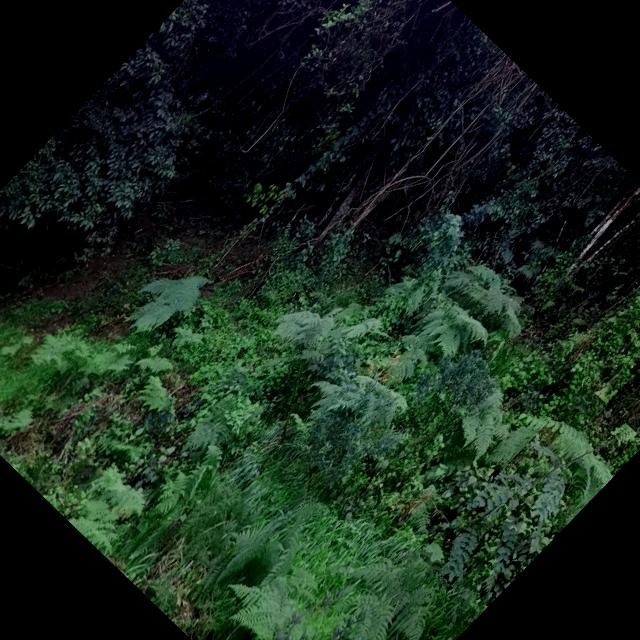Mysore-Thorn-Weed: (419, 384, 640, 615)
